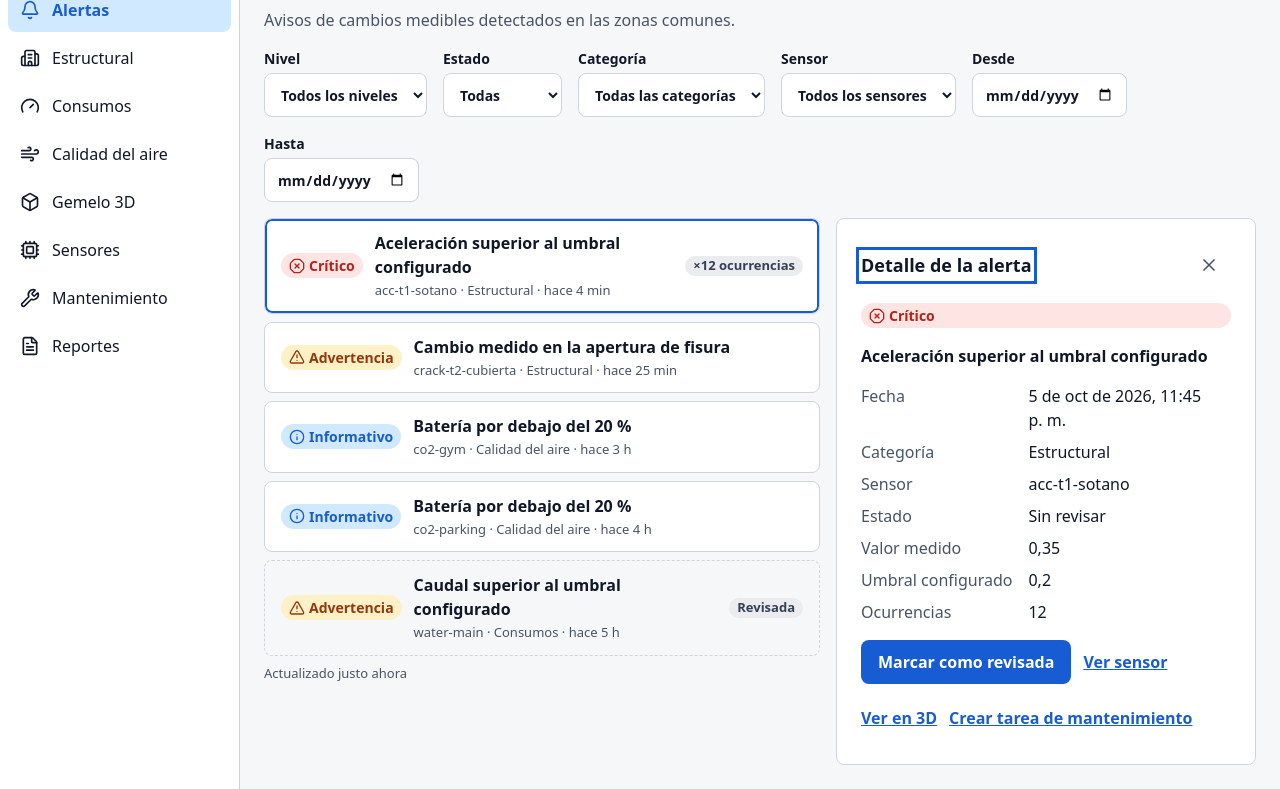
Test: detalle de alerta › marca como revisada al instante y confirma con el servidor
The width and height of the screenshot is (1280, 789).
(page scrolled)
Expected: the text "Aceleración superior al umbral configurado" below "Detalle de la alerta" is shown, [861,345,1208,367]
Click the button "Marcar como revisada". click: {"x": 966, "y": 662}
box: [861,640,1071,684]
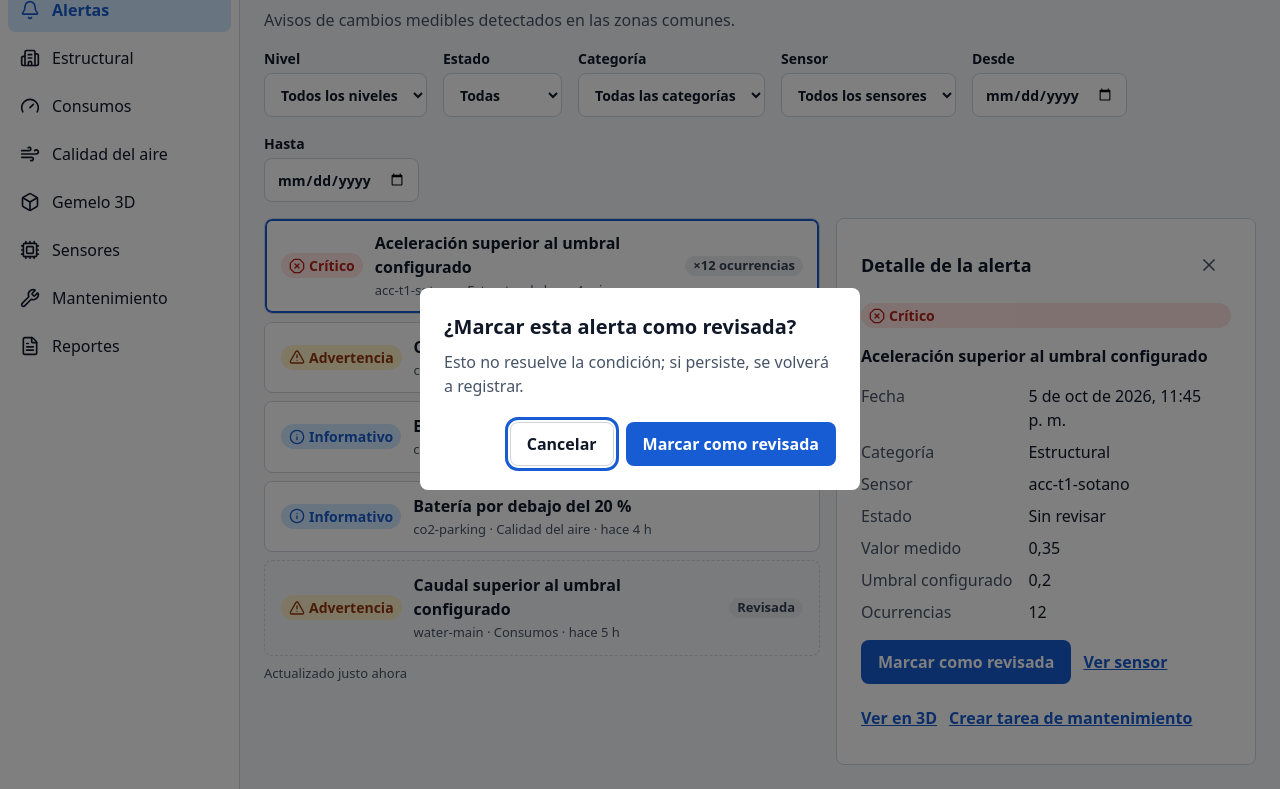
Now the dialog "¿Marcar esta alerta como revisada?" shows "Esto no resuelve la condición; si persiste, se volverá a registrar.", box [444,351,829,397]
Click the button "Marcar como revisada". click: {"x": 731, "y": 444}
box: [626,422,836,466]
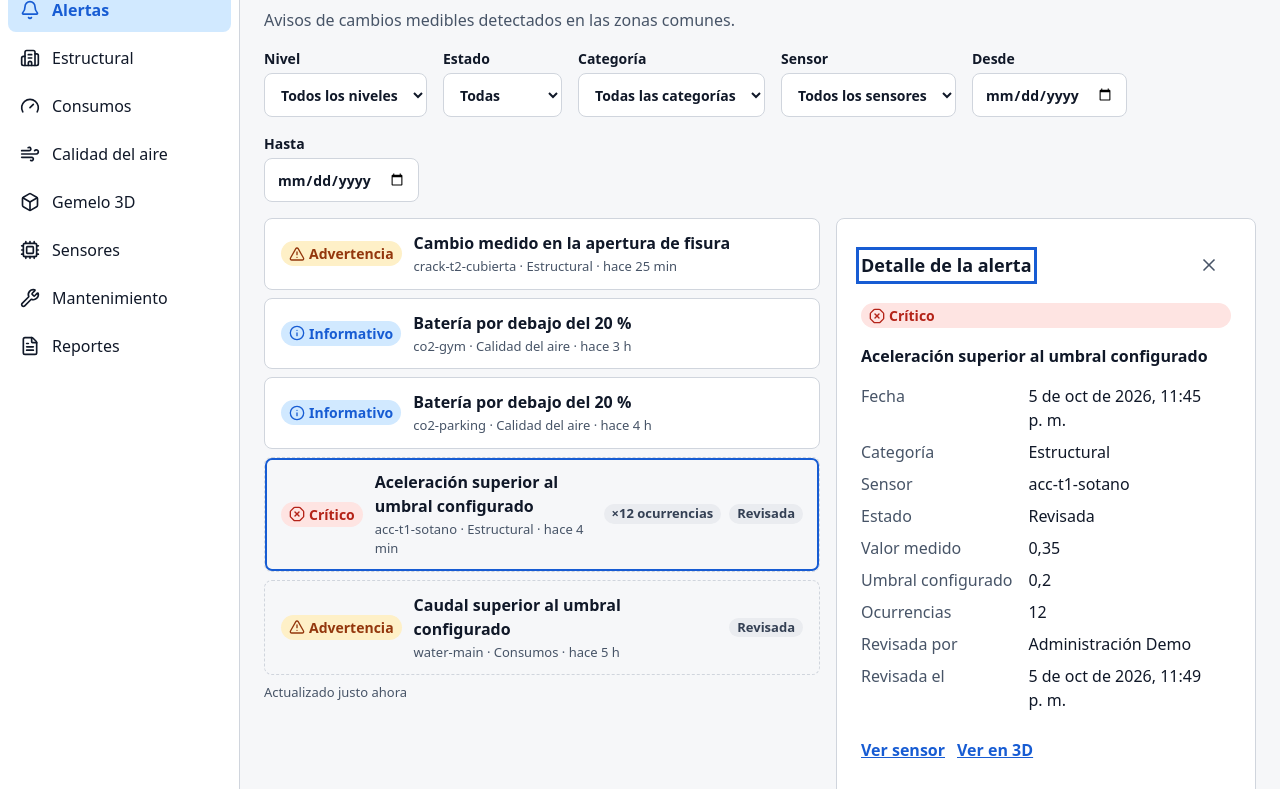
Now the text "Revisada" below "Fecha" is shown, box [1028,505,1095,527]
Now the button "Marcar como revisada" is gone
Now the text "Administración Demo" is shown, box [1028,633,1191,655]
